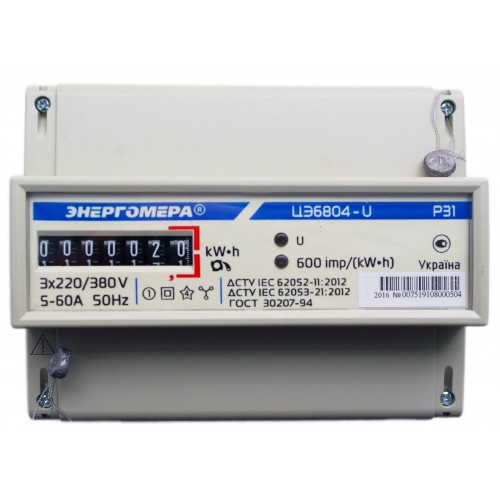counter: (7, 81, 490, 422)
counter_screen: (34, 227, 199, 269)
